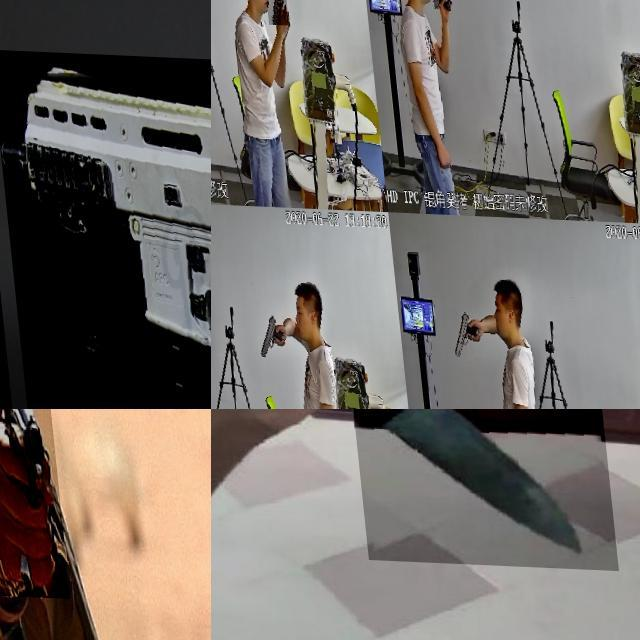-: (343, 409, 609, 567)
gun-knife-thesis - v11 Yolov5 augmented: (0, 50, 211, 409), (0, 409, 57, 596), (440, 303, 470, 354), (246, 308, 276, 358), (423, 0, 450, 26), (262, 0, 285, 24)
